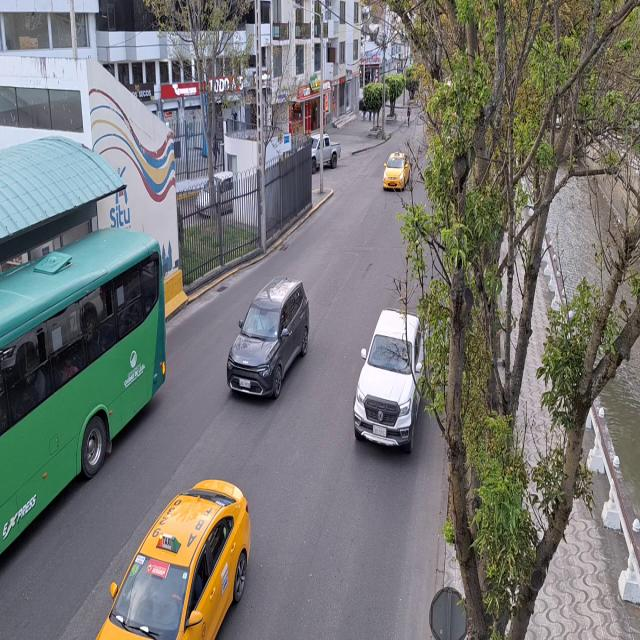BUS: (0, 236, 154, 578)
CMT: (353, 306, 424, 453)
SED: (93, 475, 252, 639), (383, 152, 411, 191)
SUV: (225, 276, 311, 401)
